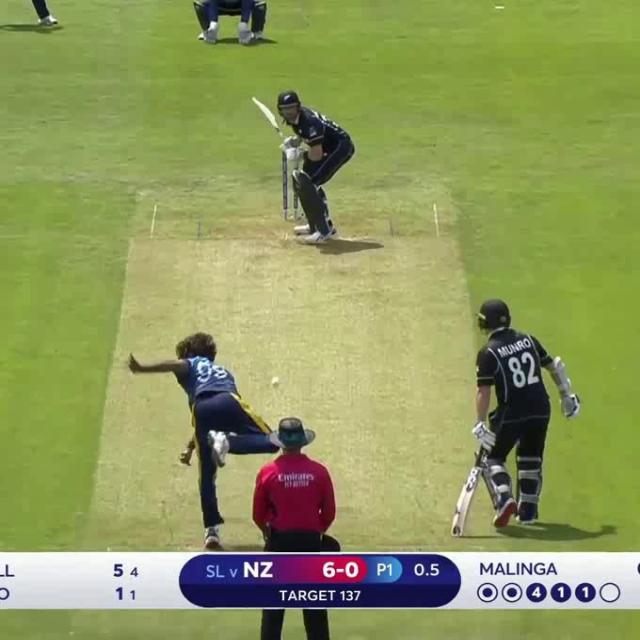bat: (451, 461, 481, 537), (250, 89, 281, 142)
toe: (445, 530, 466, 536)
